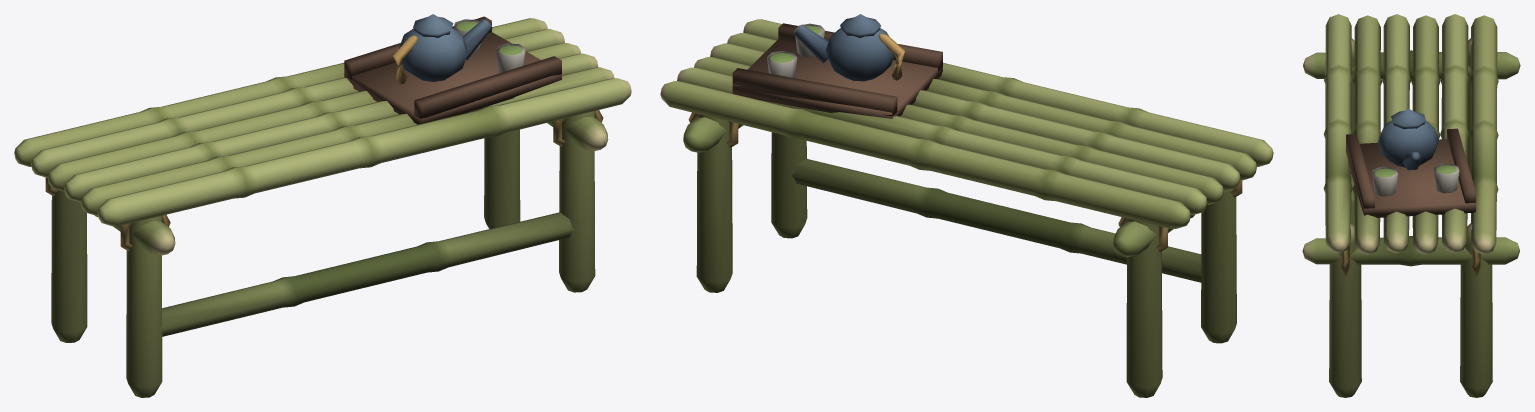
The model's file is rg-bamboo-bambooBench.glb.
3 renders of one model, left to right at view 1: azimuth 30°, elevation 25°; view 2: azimuth 150°, elevation 25°; view 3: azimuth 270°, elevation 25°, orthographic. The views are drawn at different scales.
Visible parts, largest first — view 1: body; view 2: body; view 3: body.
Part boxes in pixels (box(x1,y1,x2,y2)): body: box(14, 14, 631, 397); body: box(660, 14, 1273, 397); body: box(1302, 14, 1520, 397).
Size of the model in its own units: 1.47 by 0.7346 by 0.5995.
